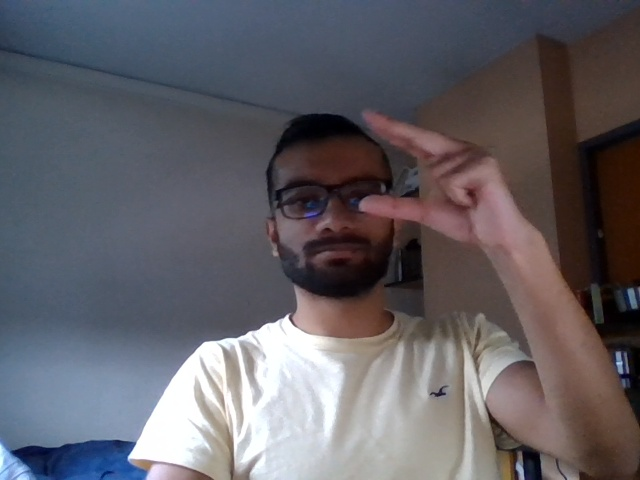No: (328, 91, 549, 252)
